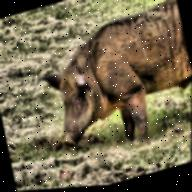boar: (23, 0, 192, 190)
